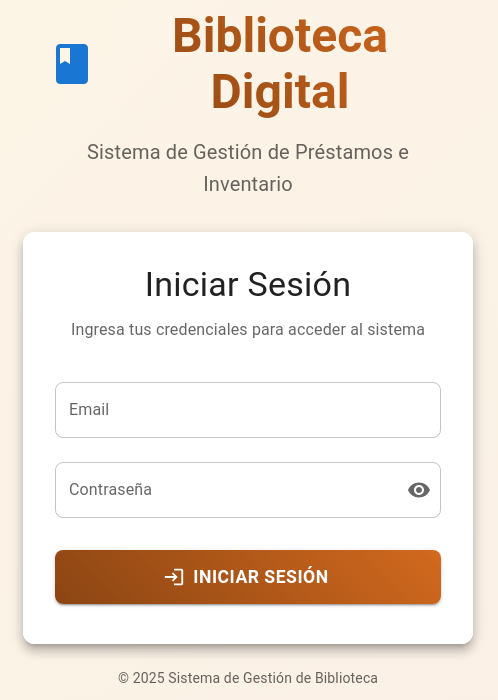
Login Component › Estados de carga › debe mostrar estado de carga durante el envío
The width and height of the screenshot is (498, 700).
// Llenar y enviar el formulario
Type "test@example.com" into the field labelled "Email" at (248, 410), box top-left (55, 382), bottom-right (441, 438)
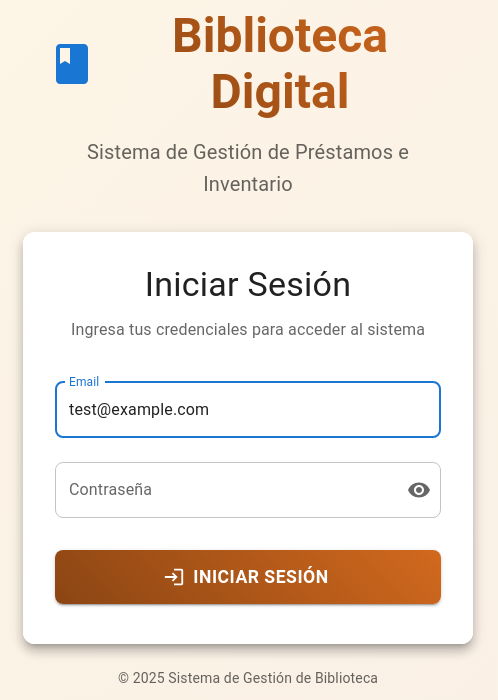
Type "password123" into the password field labelled "Contraseña" at (223, 490), box top-left (55, 462), bottom-right (391, 518)
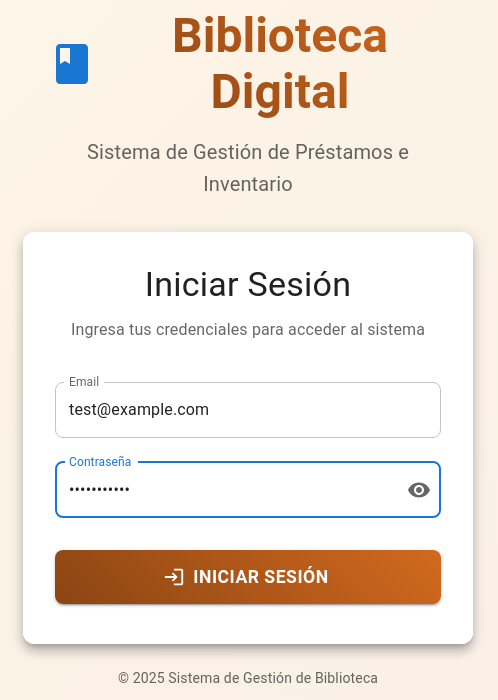
Click the button "Iniciar Sesión" at (248, 577), box top-left (55, 550), bottom-right (441, 604)
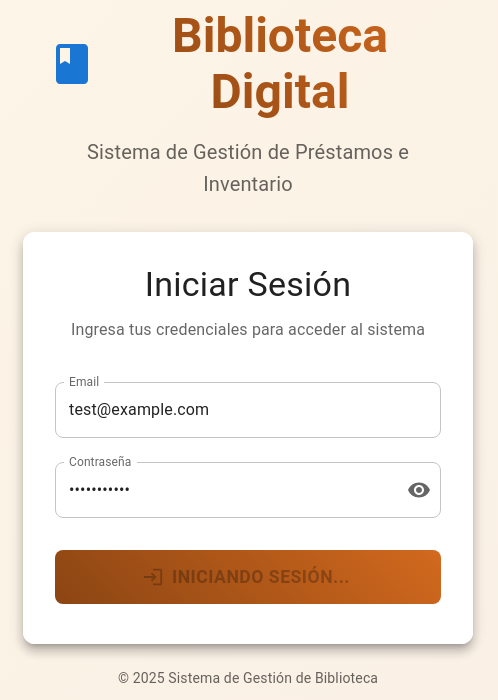
Result: the button named "iniciar sesión" is disabled at top-left (55, 550), bottom-right (441, 604)
